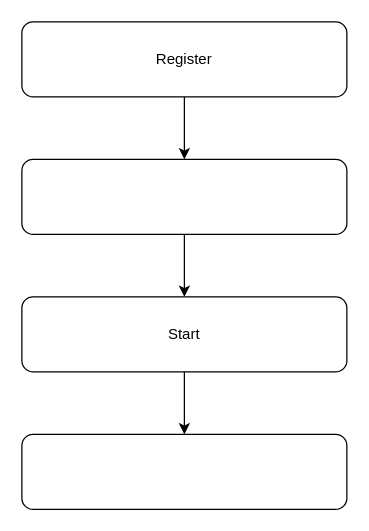
Some shapes in this 369 by 531 pixel diagram are drawn without their labels. Each missing label, with the centre of its shape:
"Initialize" goes at point 184,196.
"Stop" goes at point 184,471.
